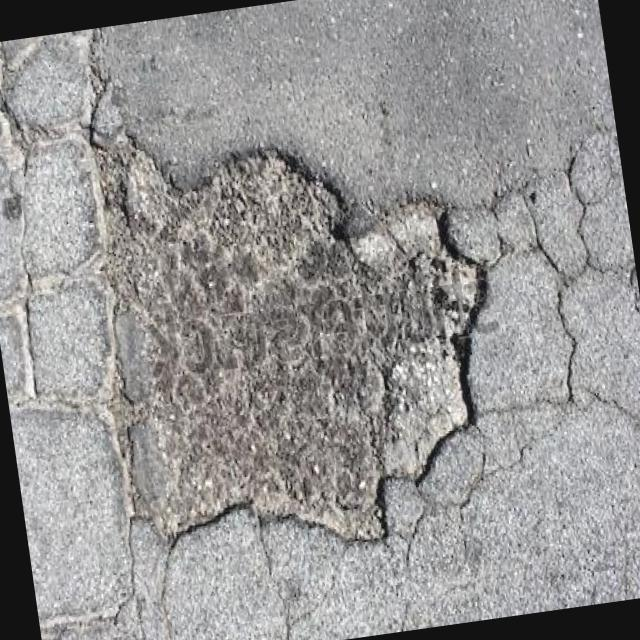Lubang: (98, 141, 479, 539)
